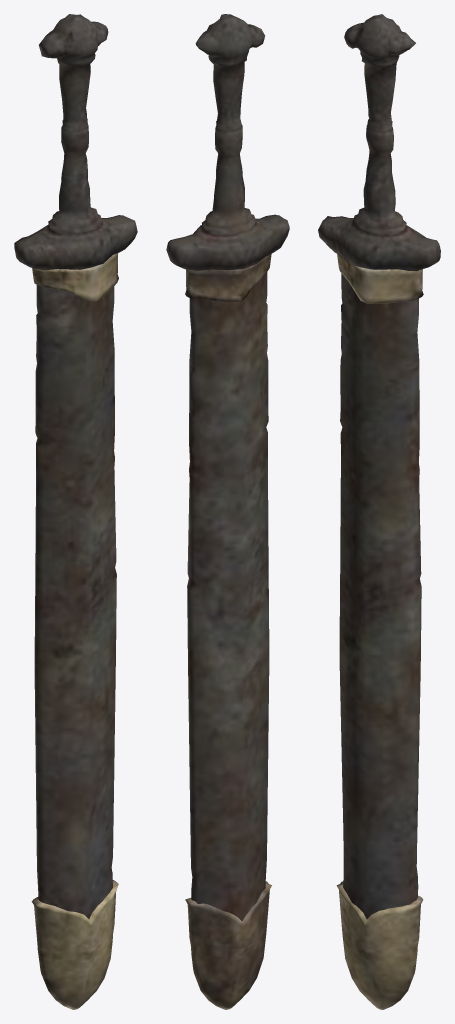
Rendered from weapon-wp_a_0272.glb.
3 renders of one model, left to right at view 1: azimuth 30°, elevation 25°; view 2: azimuth 210°, elevation 25°; view 3: azimuth 330°, elevation 25°, orthographic.
Parts seen in each view (by area): view 1: wp_a_0272_mesh; view 2: wp_a_0272_mesh; view 3: wp_a_0272_mesh.
Boxes of the visible parts, bbox=[...] form: wp_a_0272_mesh: bbox=[14, 14, 137, 1009]; wp_a_0272_mesh: bbox=[166, 14, 289, 1009]; wp_a_0272_mesh: bbox=[318, 14, 440, 1009].
Size of the model in its own units: 0.1405 by 1.18 by 0.0776.
1 material, 1 textured.
